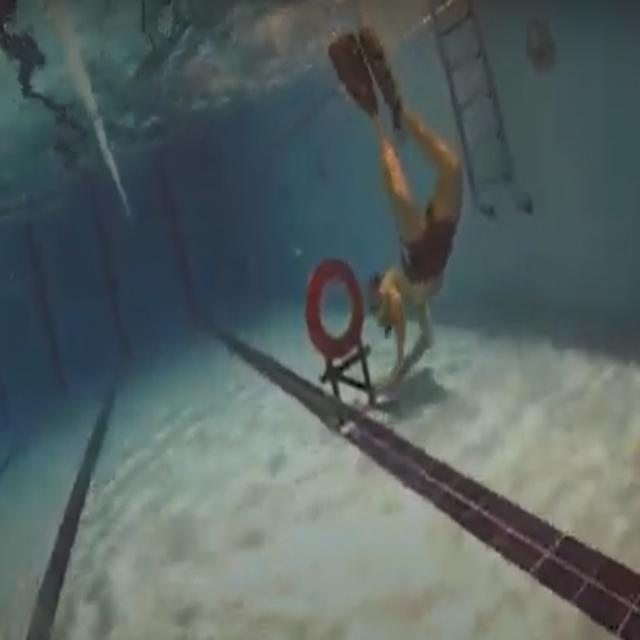Circle: (306, 256, 364, 363)
